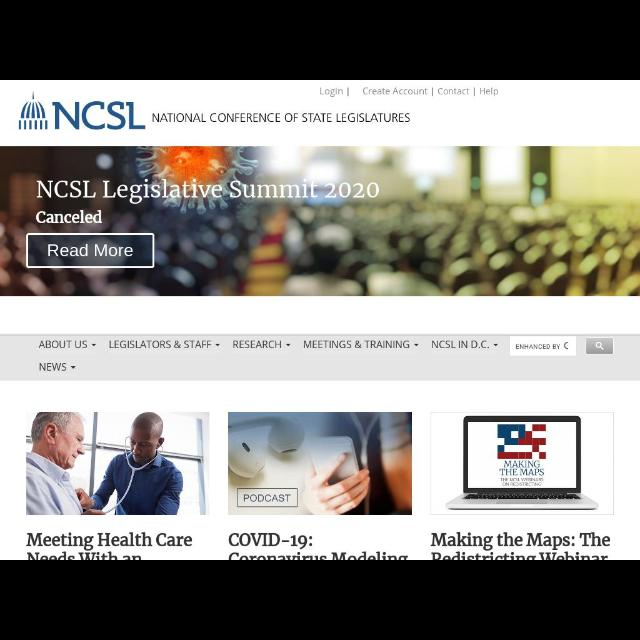backgroundimage: (1, 146, 639, 296)
button: (586, 338, 614, 354)
icon: (596, 342, 604, 351), (564, 342, 570, 350), (216, 343, 220, 347), (414, 344, 420, 346), (285, 344, 291, 346), (71, 366, 75, 368), (494, 344, 498, 346), (92, 344, 96, 346)
image: (24, 411, 210, 515), (228, 412, 412, 516), (431, 412, 614, 514), (18, 90, 146, 130)
input: (509, 336, 576, 356)
text: (36, 180, 378, 204), (431, 532, 611, 560), (229, 533, 409, 559), (27, 532, 193, 560), (152, 113, 412, 123), (48, 244, 132, 258), (304, 339, 410, 348), (36, 210, 102, 224), (110, 339, 212, 348), (362, 87, 428, 95), (432, 339, 490, 348), (232, 339, 282, 348), (38, 341, 88, 349), (40, 362, 66, 372), (438, 88, 470, 96), (319, 87, 343, 97), (516, 344, 560, 348), (479, 88, 498, 96)
textbutton: (26, 234, 154, 268)
toolbar: (1, 80, 639, 146)
